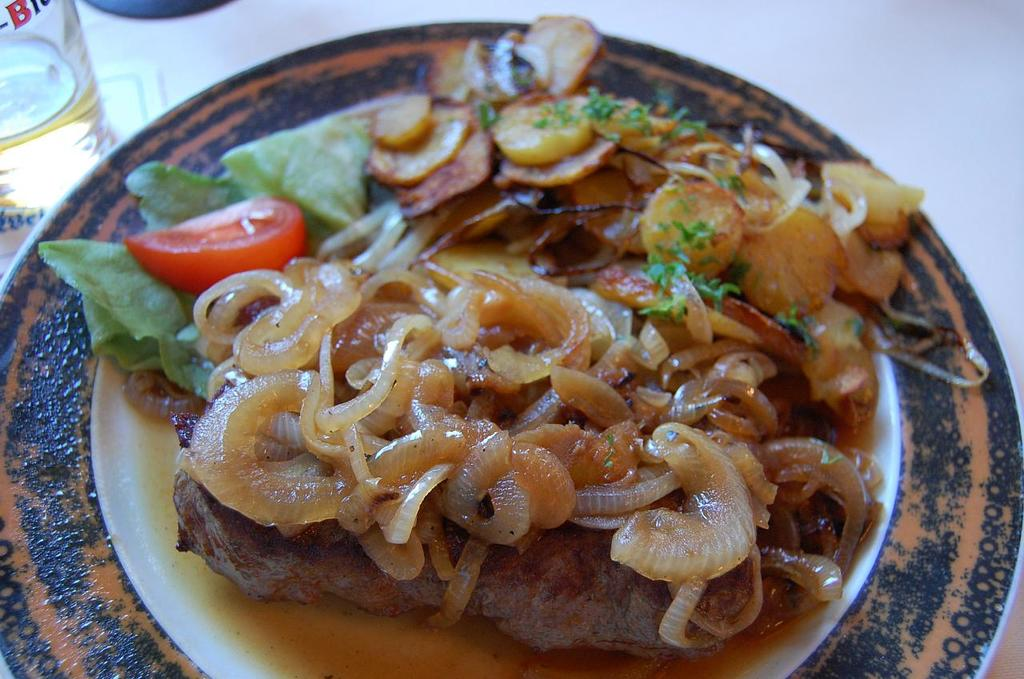Tomato: (125, 193, 307, 295)
